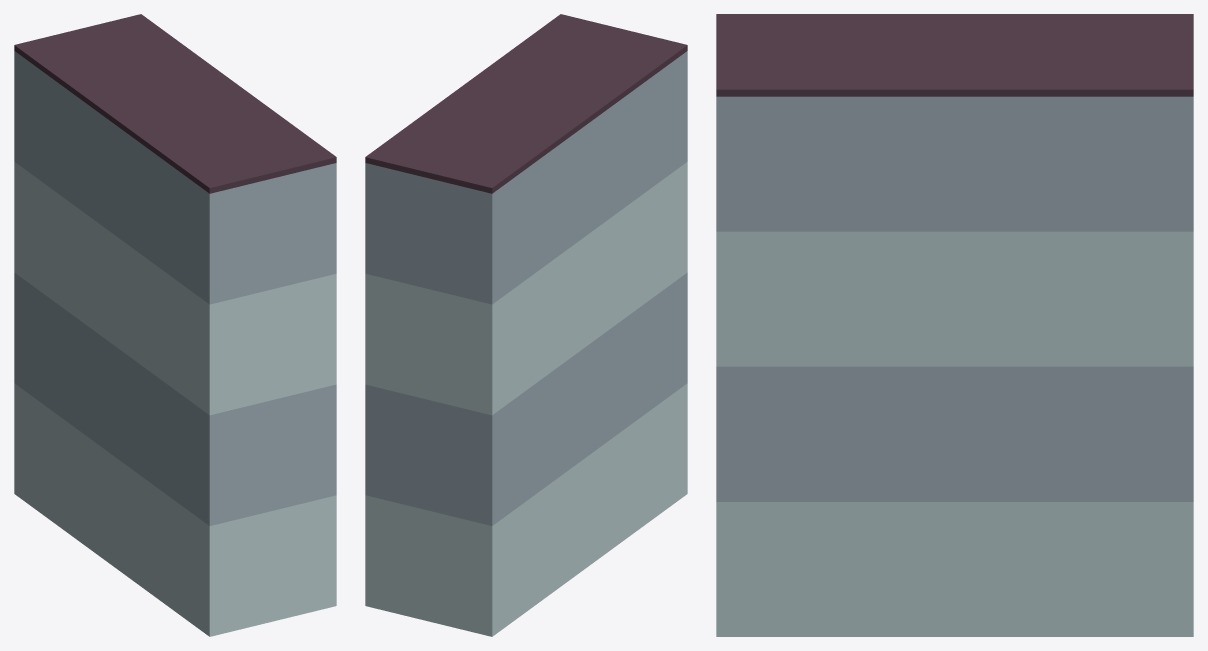
File: Lv3GroundSmall3.fbx
3 views of the same model, side by side, from view 1: azimuth 30°, elevation 25°; view 2: azimuth 150°, elevation 25°; view 3: azimuth 270°, elevation 25° (orthographic). The views are drawn at different scales.
Visible parts, largest first — view 1: Lv3Floor3; view 2: Lv3Floor3; view 3: Lv3Floor3.
Boxes of the visible parts, x1,y1,x2,y2 form: Lv3Floor3: (14,14,336,636); Lv3Floor3: (365,14,687,636); Lv3Floor3: (716,14,1193,636).
Bounding box in the file's own units: 1200 × 4051 × 3200.
